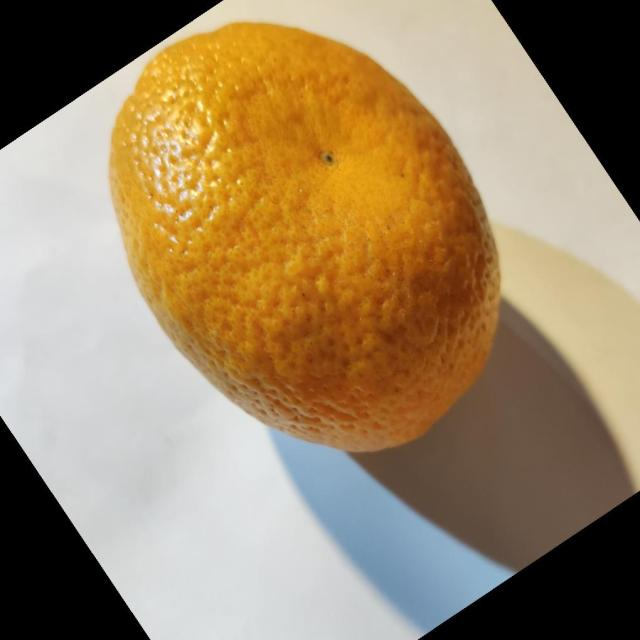fresh orange: (107, 19, 502, 453)
